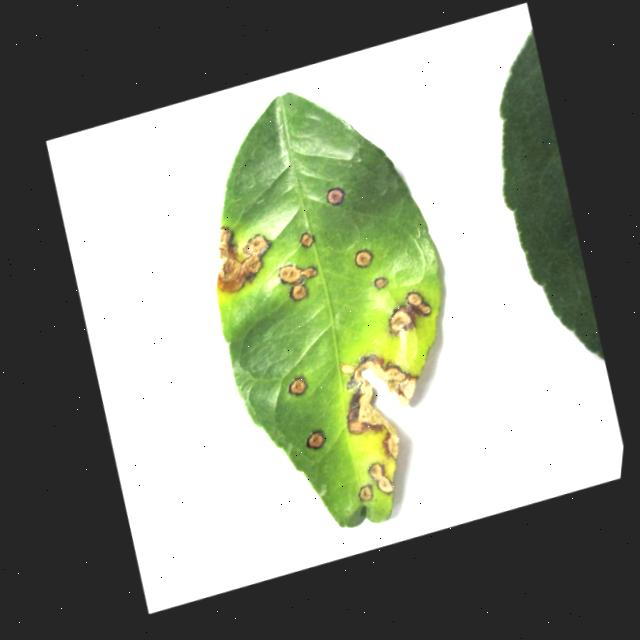antracnose: (216, 92, 440, 525), (341, 356, 416, 459), (217, 225, 270, 291), (389, 291, 431, 333), (278, 264, 317, 299), (369, 462, 393, 492), (306, 429, 325, 448), (288, 376, 307, 394), (354, 249, 372, 266), (327, 187, 345, 204), (358, 483, 372, 499), (300, 230, 314, 246), (373, 276, 387, 288)
